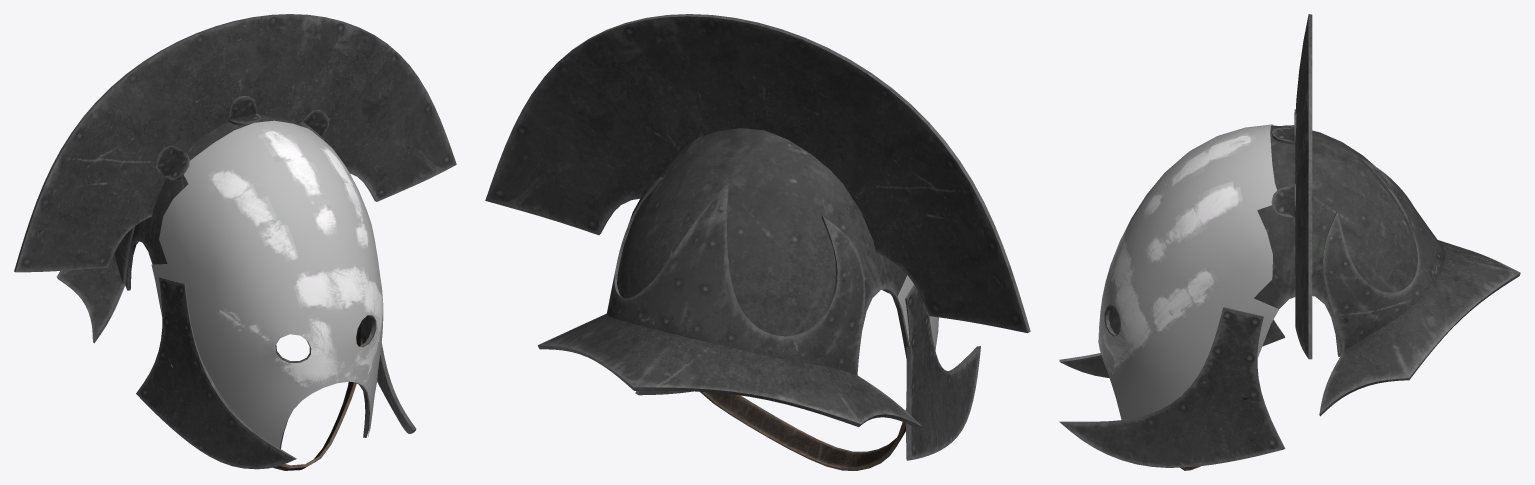
The model's file is sk_uruk_hai_helmet_officer_a2.fbx.
3 views of the same model, side by side, from view 1: azimuth 30°, elevation 25°; view 2: azimuth 150°, elevation 25°; view 3: azimuth 270°, elevation 25° (orthographic). The views are drawn at different scales.
Parts seen in each view (by area): view 1: sk_uruk_hai_helmet_officer_a2.0, sk_uruk_hai_helmet_officer_a2.1, sk_uruk_hai_helmet_officer_a2.2; view 2: sk_uruk_hai_helmet_officer_a2.0, sk_uruk_hai_helmet_officer_a2.2, sk_uruk_hai_helmet_officer_a2.1; view 3: sk_uruk_hai_helmet_officer_a2.0, sk_uruk_hai_helmet_officer_a2.1.
Part boxes in pixels (bbox=[...]): sk_uruk_hai_helmet_officer_a2.0: bbox=[14, 14, 456, 469]; sk_uruk_hai_helmet_officer_a2.1: bbox=[151, 120, 383, 447]; sk_uruk_hai_helmet_officer_a2.2: bbox=[169, 324, 362, 470]; sk_uruk_hai_helmet_officer_a2.0: bbox=[485, 14, 1030, 460]; sk_uruk_hai_helmet_officer_a2.2: bbox=[700, 385, 920, 470]; sk_uruk_hai_helmet_officer_a2.1: bbox=[897, 275, 938, 350]; sk_uruk_hai_helmet_officer_a2.0: bbox=[1059, 14, 1520, 467]; sk_uruk_hai_helmet_officer_a2.1: bbox=[1098, 124, 1278, 419].
Bounding box in the file's own units: 0.4273 × 0.3704 × 0.375.
Materials: 3 (3 with a texture image).
